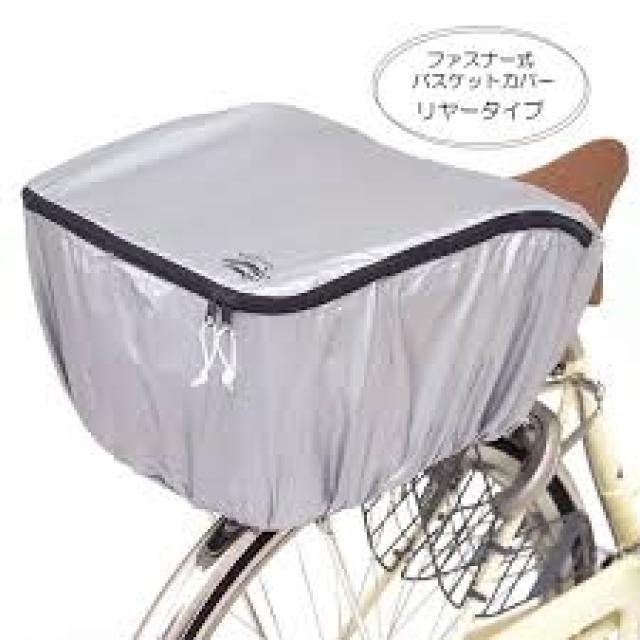basket: (22, 100, 604, 530)
